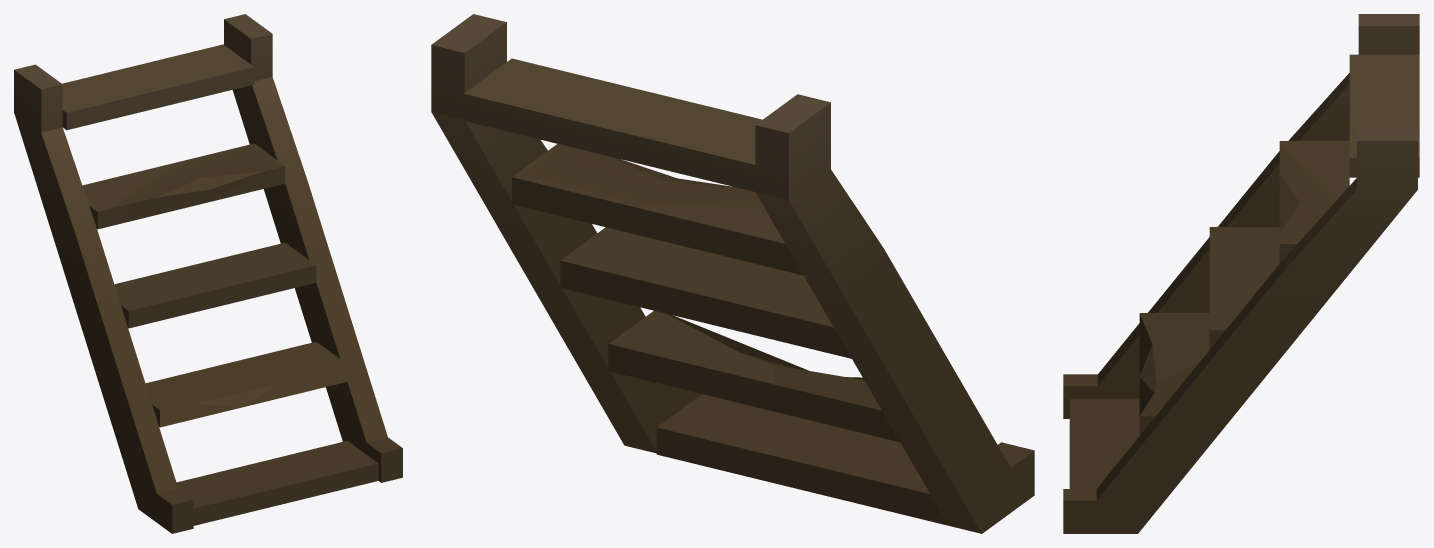
Rendered from House_Barn_Stairs.fbx.
3 renders of one model, left to right at view 1: azimuth 30°, elevation 25°; view 2: azimuth 150°, elevation 25°; view 3: azimuth 270°, elevation 25°, orthographic. The views are drawn at different scales.
Visible parts, largest first — view 1: House_Barn_Stairs; view 2: House_Barn_Stairs; view 3: House_Barn_Stairs.
Part boxes in pixels (x1,y1,x2,y2): House_Barn_Stairs: (14, 14, 402, 533); House_Barn_Stairs: (431, 14, 1034, 533); House_Barn_Stairs: (1063, 14, 1419, 533).
Bounding box in the file's own units: 1.09 × 1.57 × 1.29.
1 material, 1 textured.
